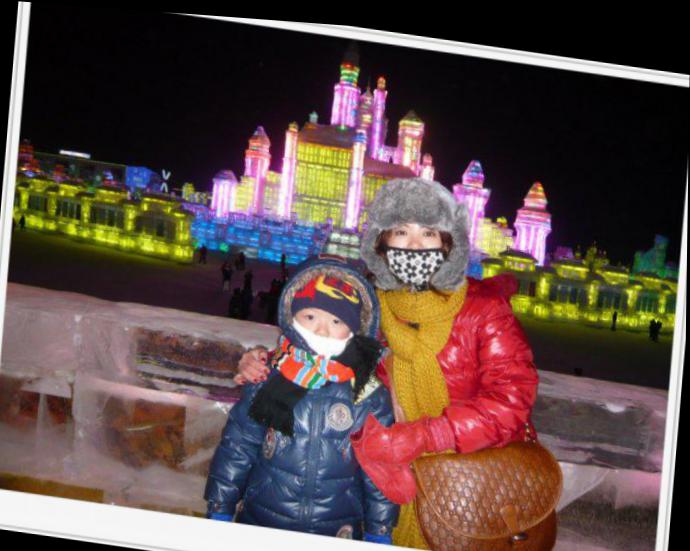WRONG: (372, 204, 455, 291), (285, 295, 356, 369)
